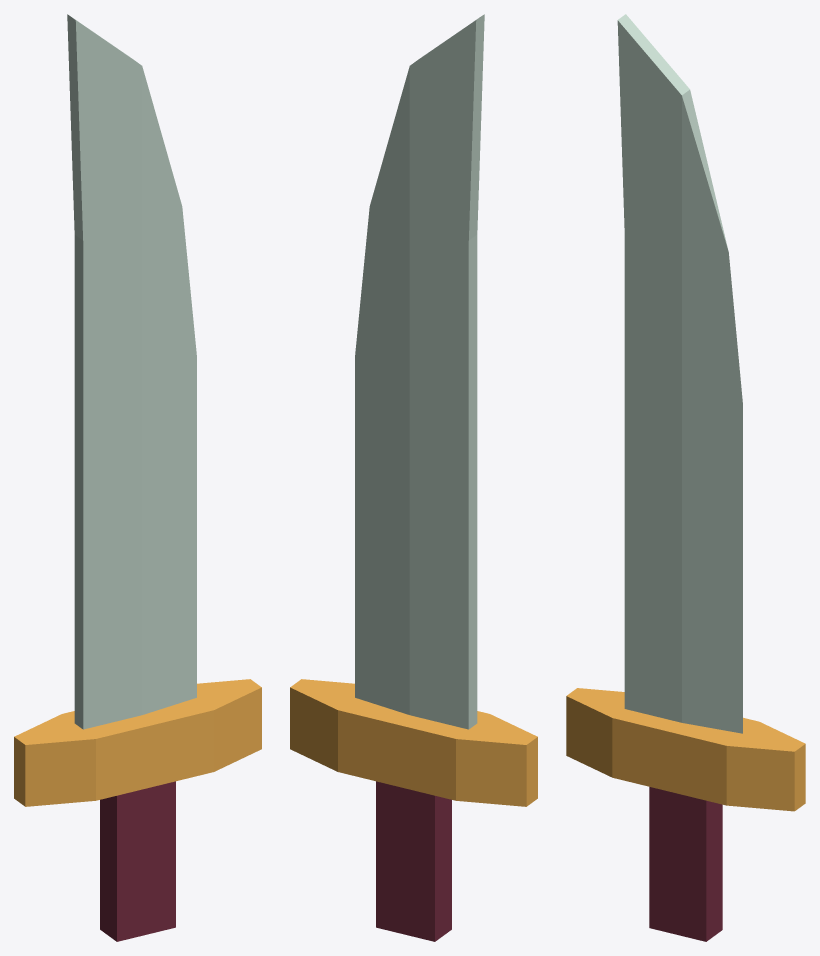
The model's file is Sword.gltf.
3 views of the same model, side by side, from view 1: azimuth 30°, elevation 25°; view 2: azimuth 150°, elevation 25°; view 3: azimuth 330°, elevation 25° (orthographic). The views are drawn at different scales.
Visible parts, largest first — view 1: Blade, Guard, Handle; view 2: Blade, Guard, Handle; view 3: Blade, Guard, Handle.
Boxes of the visible parts, bbox=[...] form: Blade: bbox=[67, 14, 196, 729]; Guard: bbox=[14, 679, 261, 806]; Handle: bbox=[100, 781, 175, 941]; Blade: bbox=[355, 14, 484, 729]; Guard: bbox=[290, 679, 537, 806]; Handle: bbox=[376, 781, 451, 941]; Blade: bbox=[617, 14, 742, 733]; Guard: bbox=[566, 688, 805, 811]; Handle: bbox=[649, 787, 722, 941].
Bounding box in the file's own units: 0.5 × 1.88 × 0.125.
Materials: 1 (1 with a texture image).
